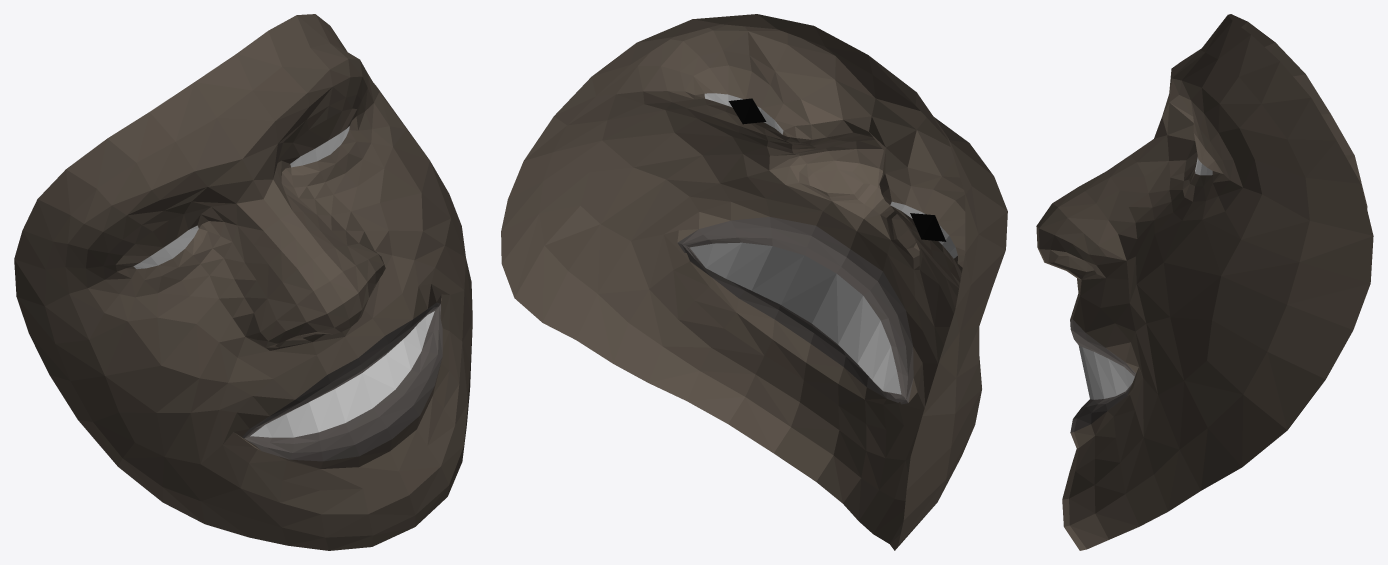
The model's file is confident.obj.
3 views of the same model, side by side, from view 1: azimuth 30°, elevation 25°; view 2: azimuth 150°, elevation 25°; view 3: azimuth 270°, elevation 25° (orthographic). The views are drawn at different scales.
Visible parts, largest first — view 1: face_model_with_iris; view 2: face_model_with_iris; view 3: face_model_with_iris.
Part boxes in pixels (left/top/right/bottom): face_model_with_iris: left=14, top=14, right=472, bottom=550; face_model_with_iris: left=501, top=14, right=1007, bottom=550; face_model_with_iris: left=1036, top=14, right=1373, bottom=550.
Bounding box in the file's own units: 0.6624 × 0.7427 × 0.455.
